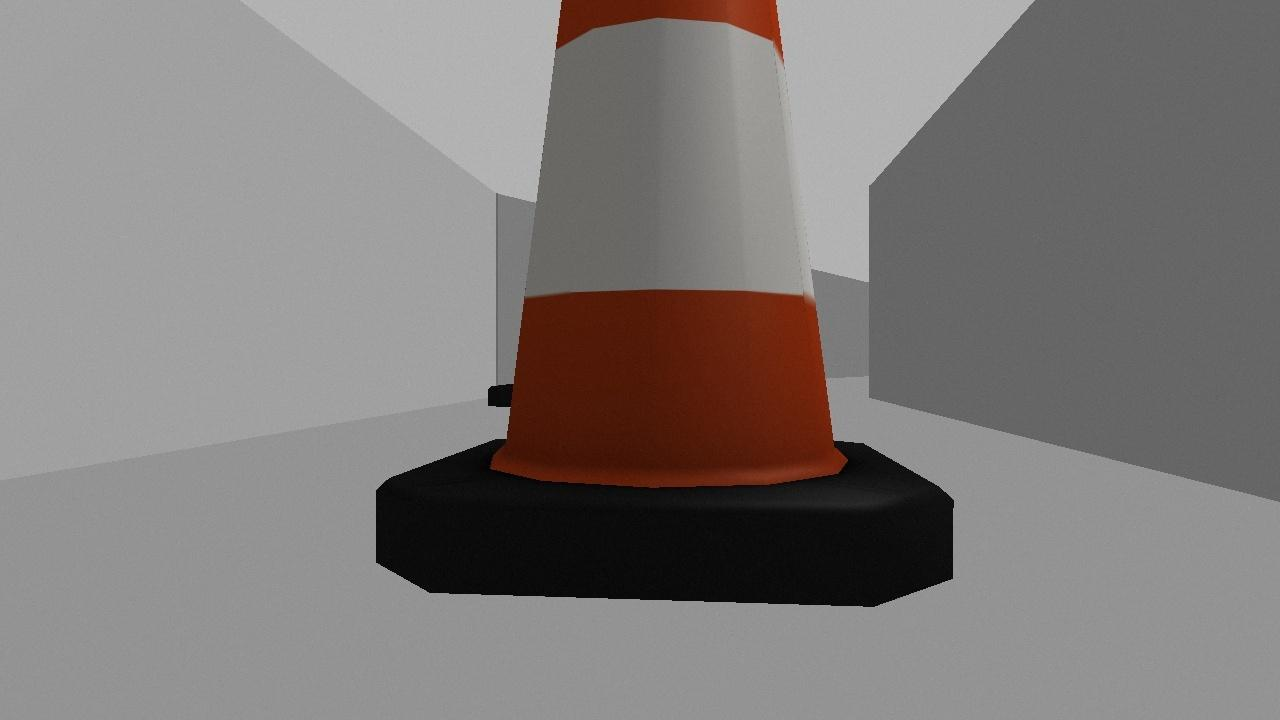cone_barrel: (348, 0, 971, 640)
